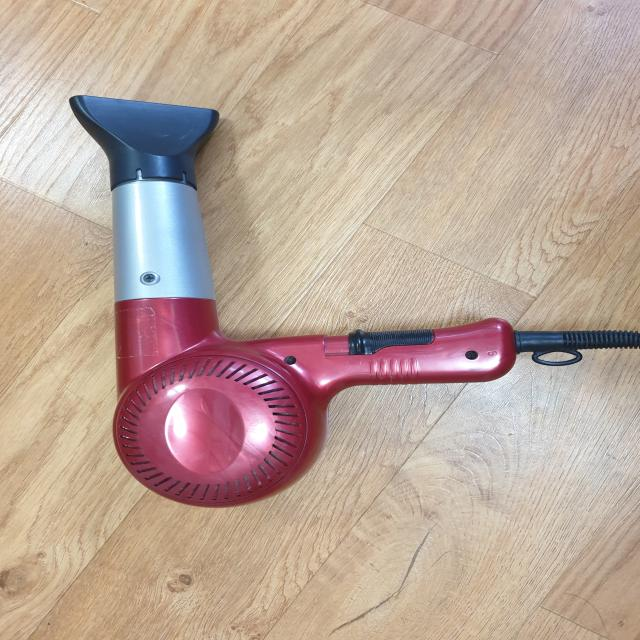dryer: (67, 94, 640, 509)
